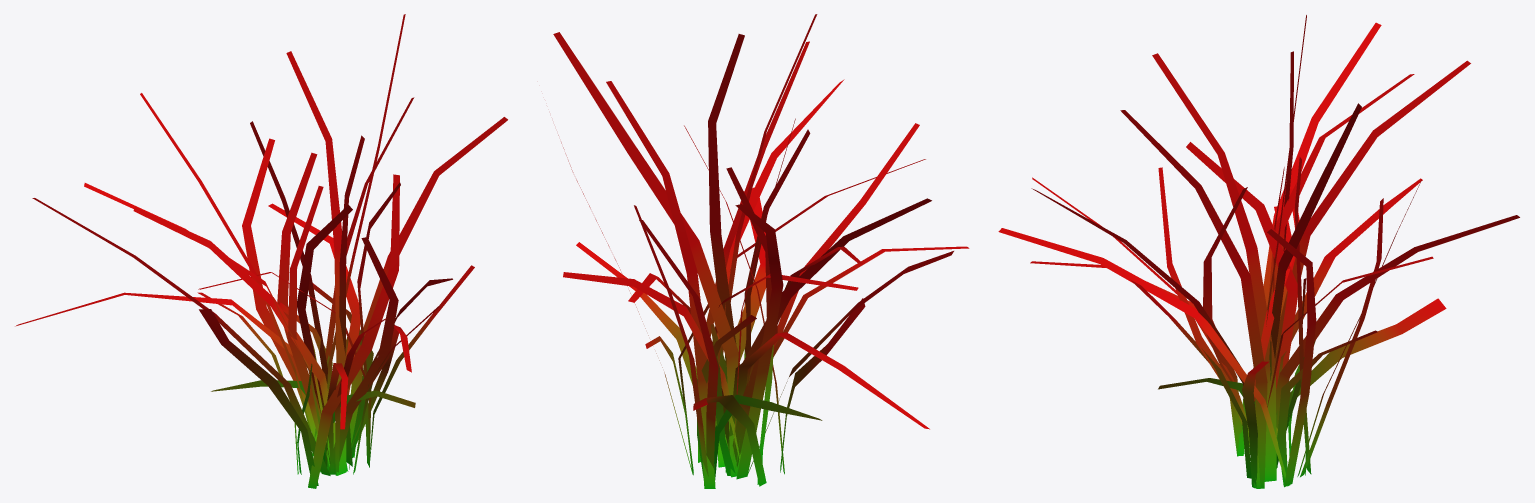
Rendered from Var2_LOD1.fbx.
3 renders of one model, left to right at view 1: azimuth 30°, elevation 25°; view 2: azimuth 150°, elevation 25°; view 3: azimuth 270°, elevation 25°, orthographic. The views are drawn at different scales.
Parts seen in each view (by area): view 1: _11dd_Var2_LOD1; view 2: _11dd_Var2_LOD1; view 3: _11dd_Var2_LOD1.
Boxes of the visible parts, x1,y1,x2,y2 form: _11dd_Var2_LOD1: (15,14,507,488); _11dd_Var2_LOD1: (553,14,969,488); _11dd_Var2_LOD1: (998,15,1519,488).
Bounding box in the file's own units: 53.39 × 49.76 × 52.99.
